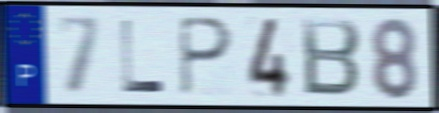4: (245, 15, 294, 101)
7: (56, 14, 103, 98)
8: (368, 15, 420, 103)
B: (299, 16, 363, 100)
L: (118, 17, 168, 95)
P: (176, 14, 235, 99)
